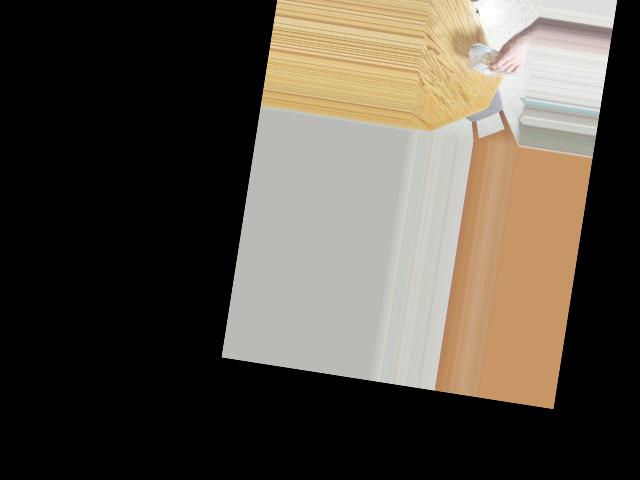cheese: (473, 39, 522, 82)
